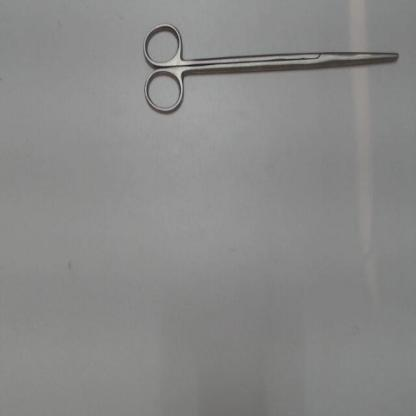9 Metzenbaum Scissors: (135, 16, 405, 121)
